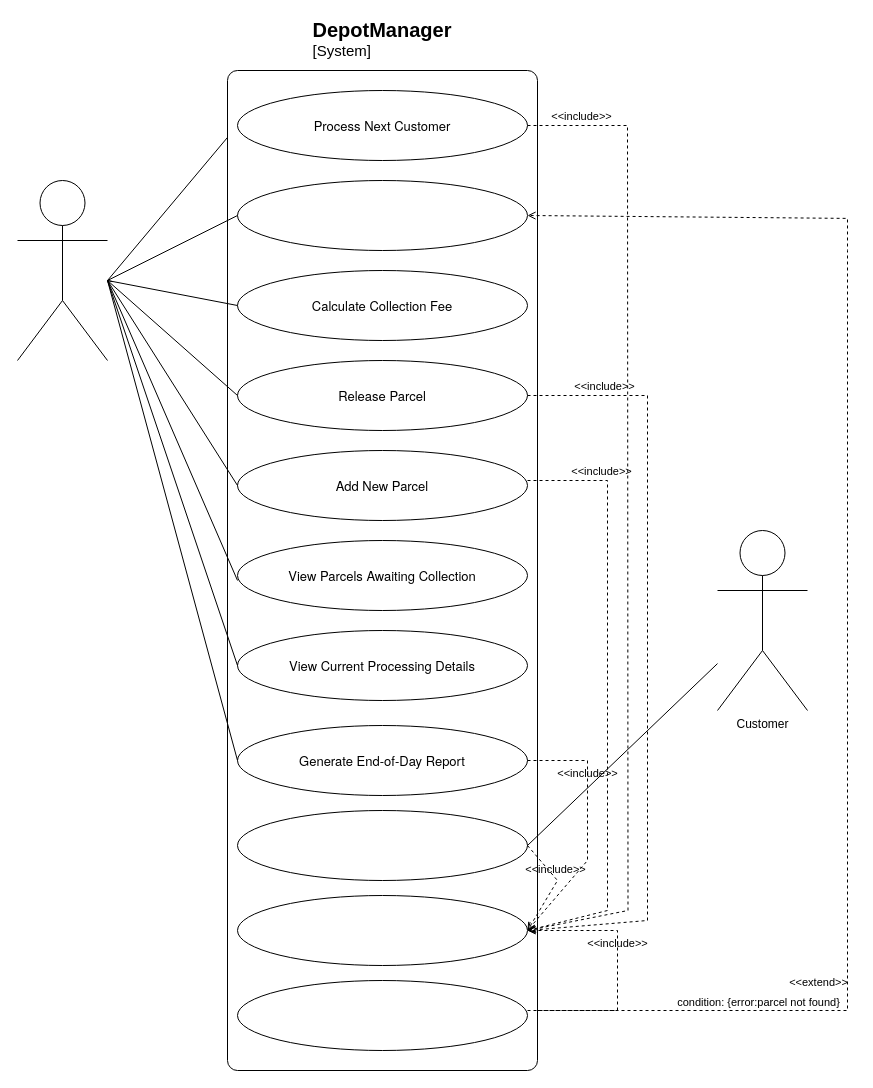
This 873x1088 diagram has some shape labels left out. Each missing label, with the centre of its shape:
Depot Worker: (x=62, y=270)
Handle Parcel Not Found: (x=382, y=1015)
Join Collection Queue: (x=382, y=845)
Look Up Parcel: (x=382, y=215)
Record Event to Log: (x=382, y=930)
